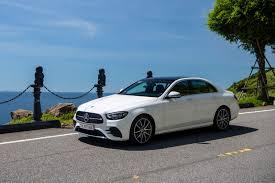mercedes: (82, 111, 93, 123)
